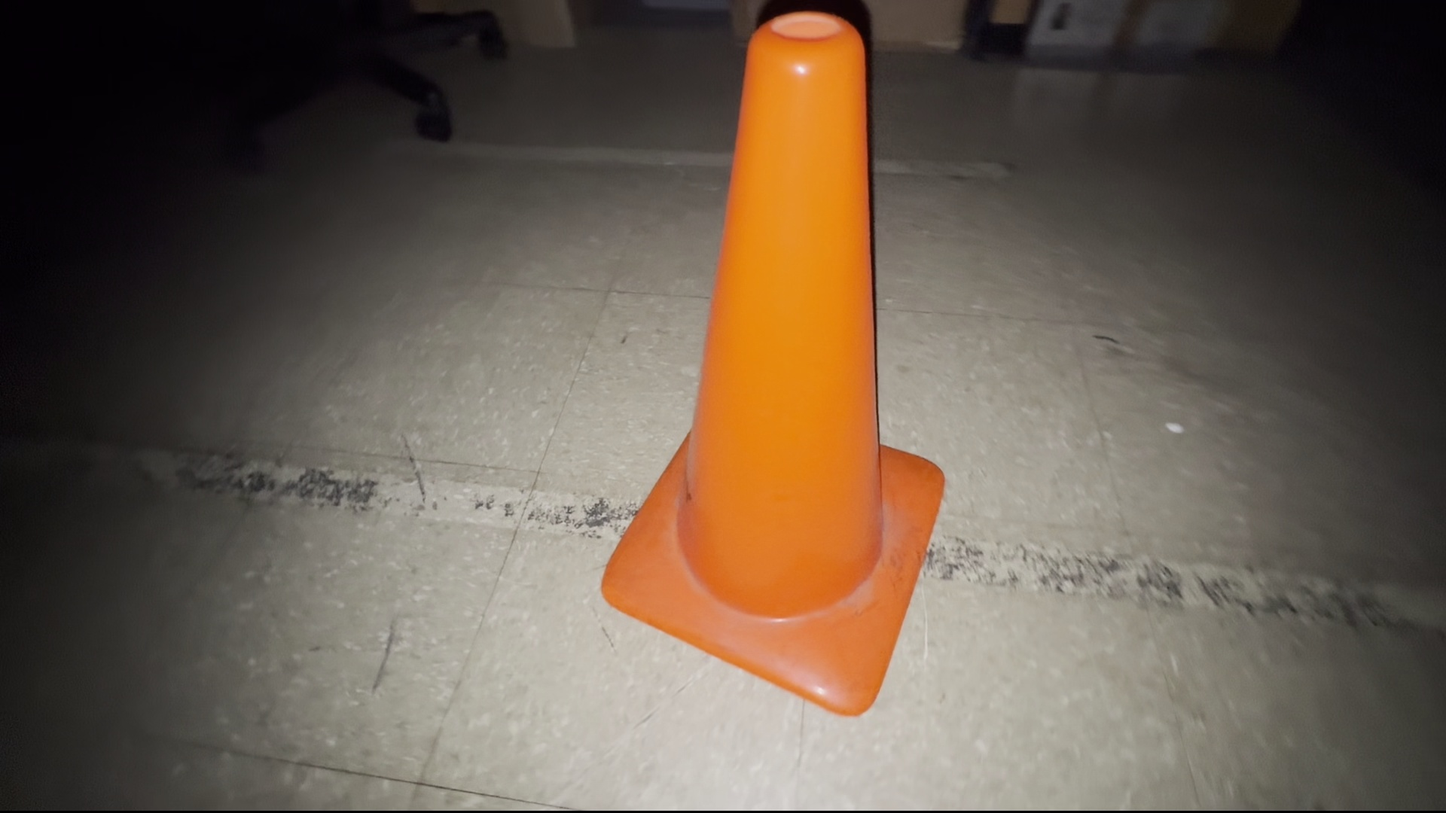traffic_cone: (600, 10, 946, 717)
